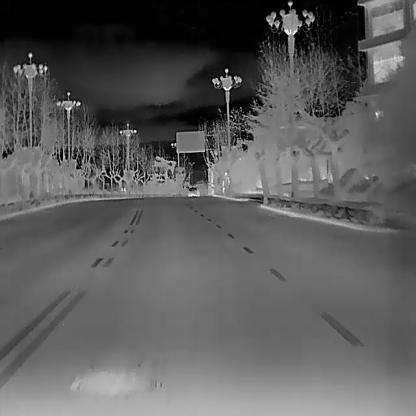car: (187, 186, 200, 198)
